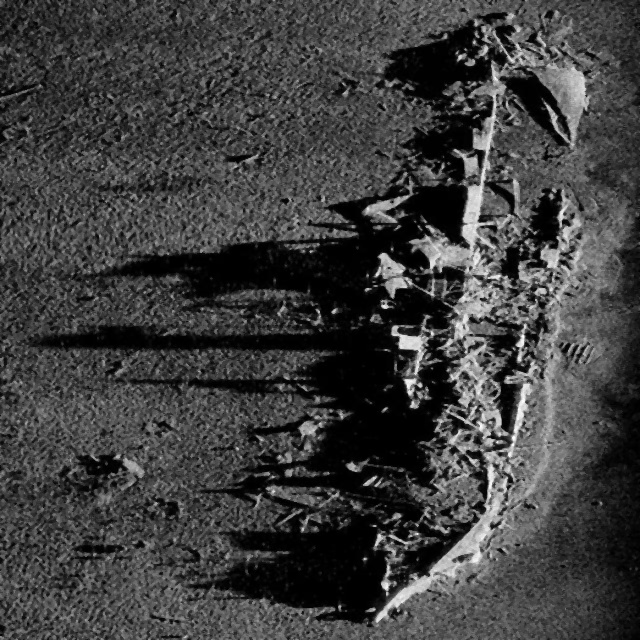Ship: (243, 7, 621, 631)
